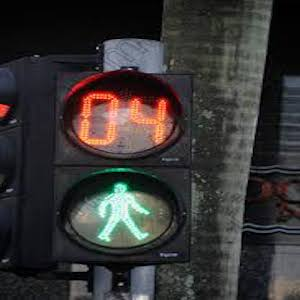green: (89, 180, 156, 243)
